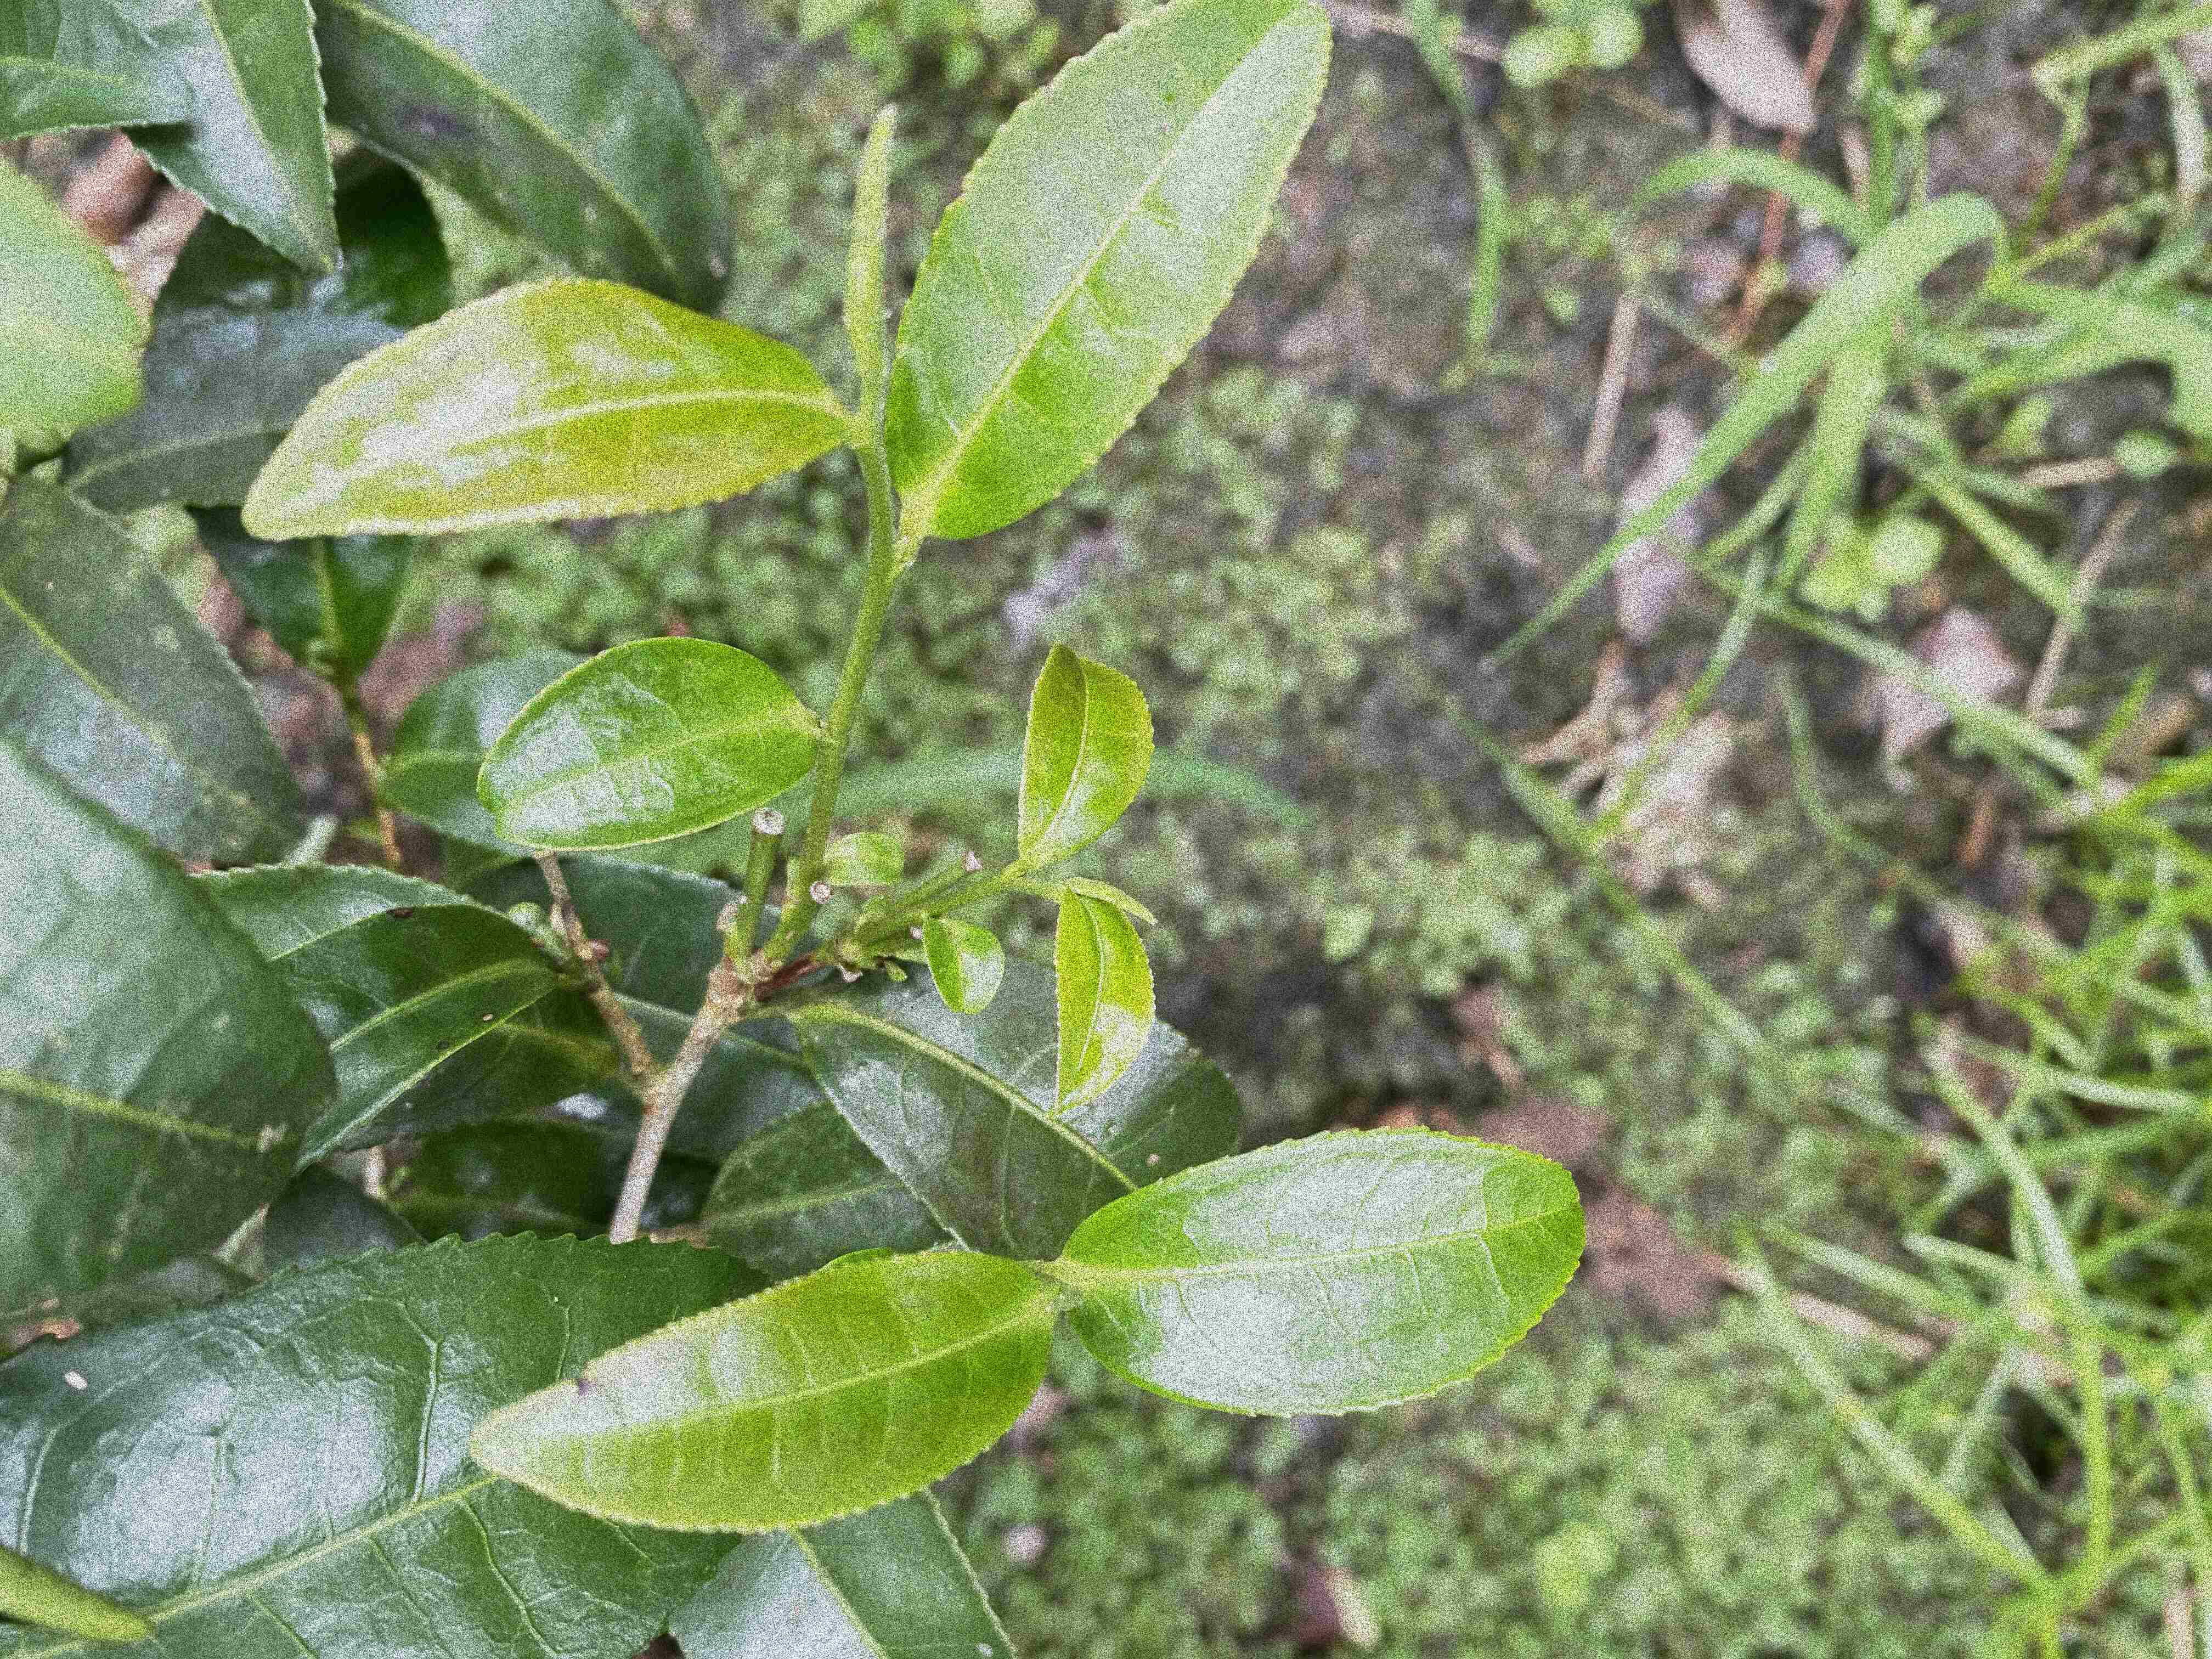healthy: (888, 7, 1338, 544), (1069, 1119, 1590, 1419), (479, 634, 826, 849), (1015, 641, 1151, 871), (1052, 892, 1153, 1112)
tanju_low: (467, 1248, 1057, 1534), (237, 275, 846, 544)
